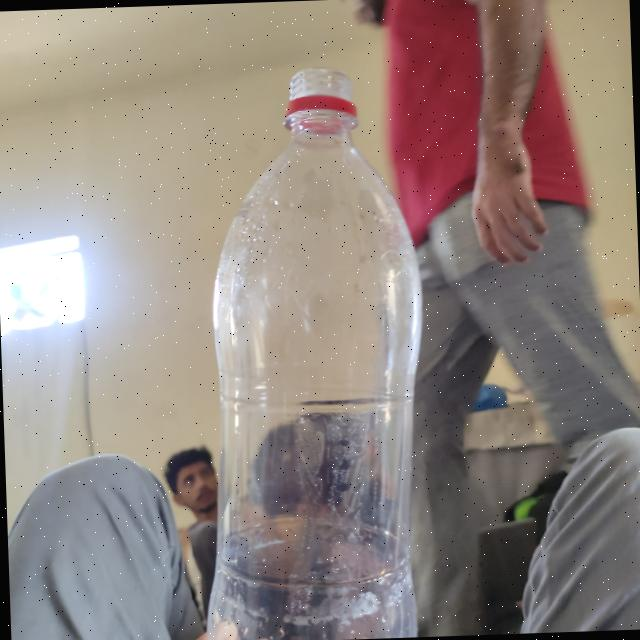bottle: (199, 66, 433, 640)
